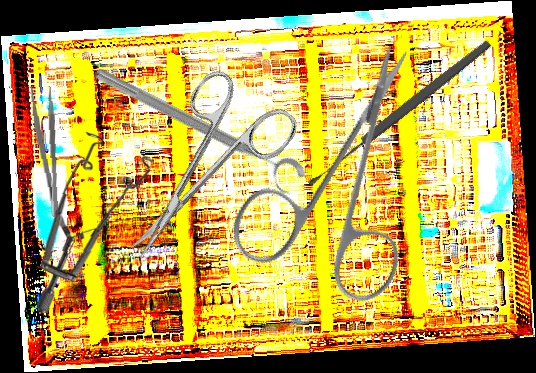Dressing Forceps: (29, 85, 62, 218)
Fixation Ring: (84, 60, 310, 202)
Iris Scissors: (188, 41, 489, 339), (90, 57, 304, 286)
Speculum: (34, 130, 157, 314)
Surgical Spoon: (304, 37, 494, 190)
